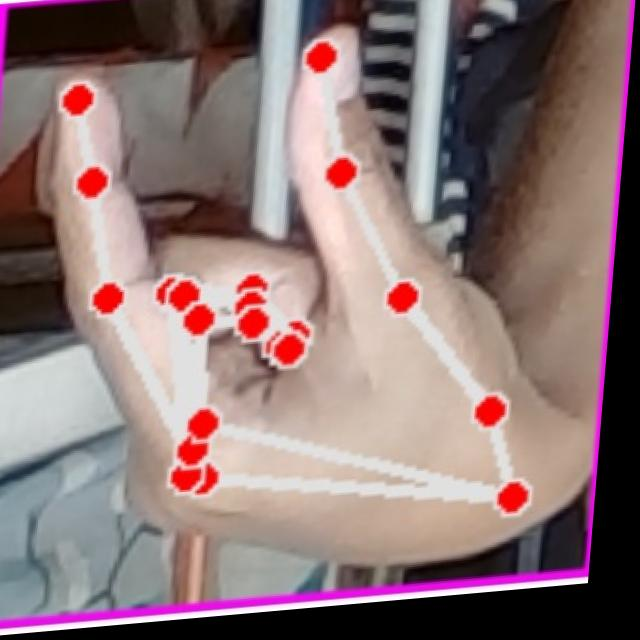Q: (13, 5, 598, 609)
